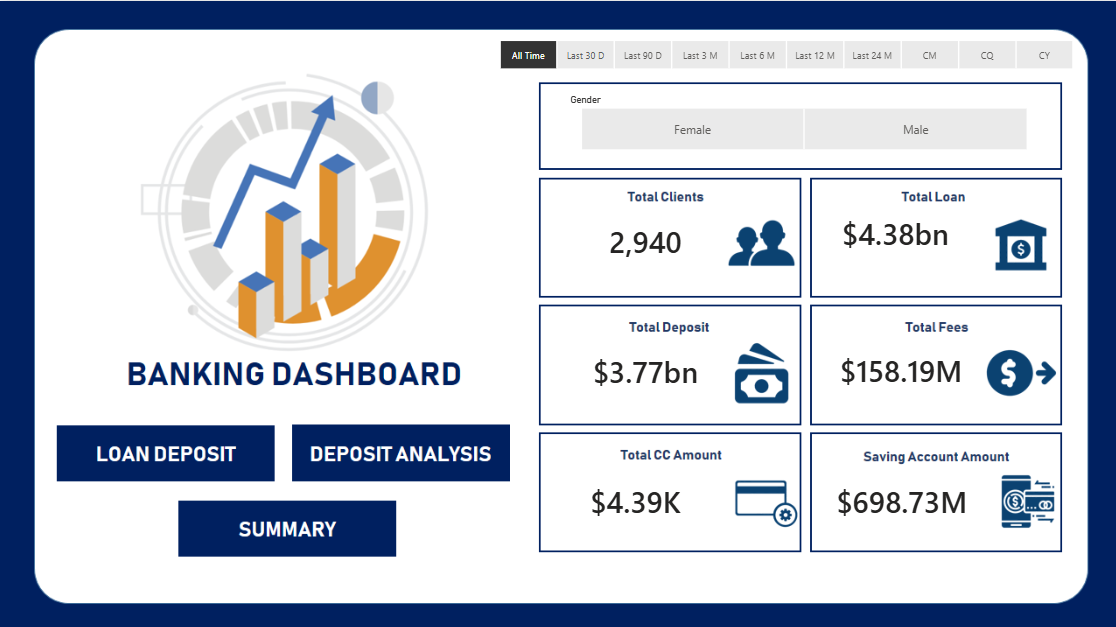

What the dashboard file says about the page in this screenshot:
{"tool":"powerbi","page":{"name":"Home","canvas":[1280,720],"ordinal":0},"visuals":[{"type":"slicer","fields":{"Values":["Gender.Gender"]},"box":[640.3,100.8,558.2,75],"z":0},{"type":"card","fields":{"Values":["DAX Measures.Total Clients"]},"box":[640.3,218.1,198.2,114.9],"z":1000},{"type":"card","fields":{"Values":["DAX Measures.Total Loan"]},"box":[933.4,208.7,184.1,114.9],"z":2000},{"type":"card","fields":{"Values":["DAX Measures.Total Deposit"]},"box":[640.3,374.1,198.2,98.5],"z":3000},{"type":"card","fields":{"Values":["DAX Measures.Total CC Amount"]},"box":[628.5,533.6,198.2,79.7],"z":4000},{"type":"card","fields":{"Values":["DAX Measures.Total Fees"]},"box":[938.1,372.9,185.3,99.7],"z":5000},{"type":"card","fields":{"Values":["DAX Measures.Savings Account"]},"box":[933.4,533.6,198.2,79.7],"z":6000},{"type":"actionButton","box":[63.3,483.1,253.3,65.7],"z":7000},{"type":"actionButton","box":[335.4,485.5,250.9,63.3],"z":8000},{"type":"actionButton","box":[205.2,573.4,255.6,61],"z":9000},{"type":"slicer","fields":{"Values":["Period.Name"]},"box":[546.4,38.7,703.6,45.7],"z":10000}]}

Visuals, with their boxes in screenshot pixels (x1, y1, x2, y2), scaled from the page's 1280x720 canvas onto the 1116x627 screenshot:
slicer - Gender.Gender: crop(558, 88, 1045, 153)
card - DAX Measures.Total Clients: crop(558, 190, 731, 290)
card - DAX Measures.Total Loan: crop(814, 182, 974, 282)
card - DAX Measures.Total Deposit: crop(558, 326, 731, 412)
card - DAX Measures.Total CC Amount: crop(548, 465, 721, 534)
card - DAX Measures.Total Fees: crop(818, 325, 979, 412)
card - DAX Measures.Savings Account: crop(814, 465, 987, 534)
actionButton: crop(55, 421, 276, 478)
actionButton: crop(292, 423, 511, 478)
actionButton: crop(179, 499, 402, 552)
slicer - Period.Name: crop(476, 34, 1090, 73)
